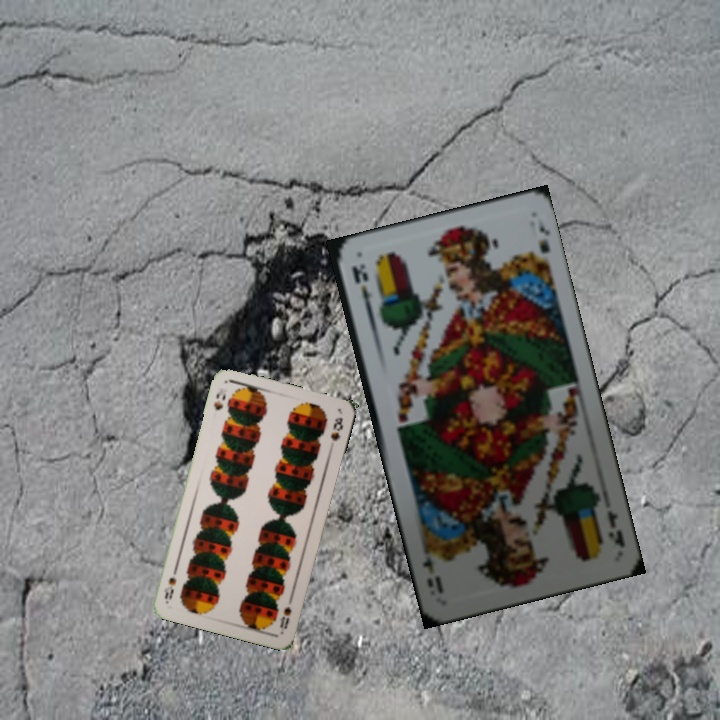EK: (348, 260, 375, 317), (603, 506, 627, 550)
S8: (276, 602, 294, 631), (210, 389, 228, 413)
